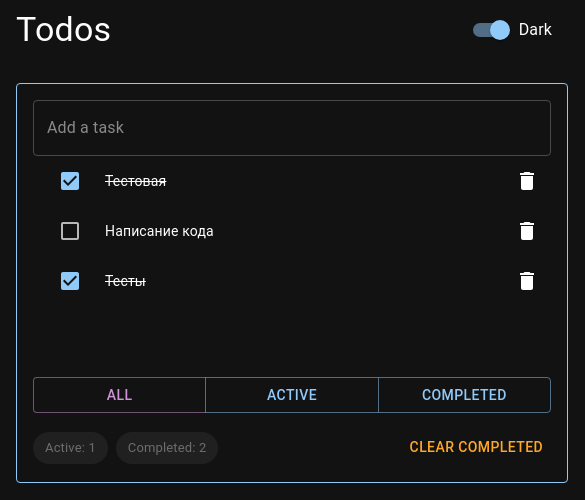
it: App component › filters todos
What coordinates should you click on to do the following:
click the button "Active"
I would click on:
 (292, 395)
Its box is [205,377,379,414].
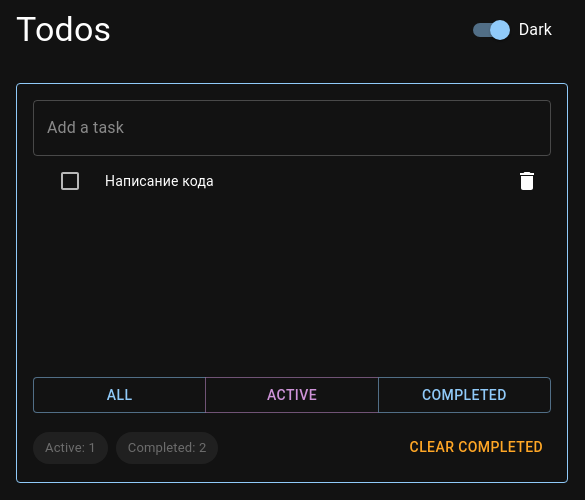
Expected: the text "Написание кода" is shown, [105,173,214,189]
Now the text "Тестовая" is gone
